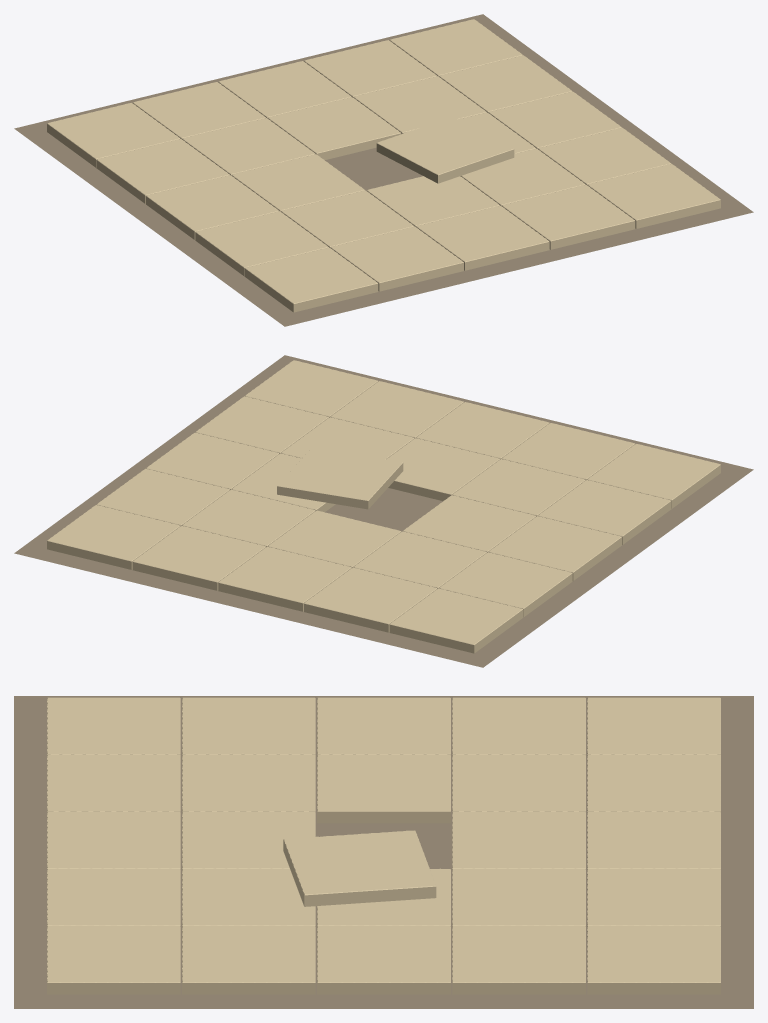
Rendered from terilgan.glb.
3 renders of one model, top to bottom at view 1: azimuth 30°, elevation 25°; view 2: azimuth 150°, elevation 25°; view 3: azimuth 270°, elevation 25°, orthographic. The views are drawn at different scales.
Parts seen in each view (by area): view 1: qum, t.012, t, t.015, t.005, t.010, t.020, t.013, t.001, t.002, t.003, t.004 (+14 smaller); view 2: qum, t.004, t.012, t.019, t.009, t.014, t.024, t.002, t.003, t.001, t, t.006 (+14 smaller); view 3: qum, t.012, t.007, t.020, t.021, t.022, t.023, t.024, t, t.001, t.002, t.003 (+14 smaller).
Part boxes in pixels (x1=…): qum: x1=14, y1=14, x2=753, y2=326; t.012: x1=376, y1=117, x2=514, y2=183; t: x1=244, y1=247, x2=378, y2=312; t.015: x1=501, y1=185, x2=635, y2=249; t.005: x1=330, y1=226, x2=463, y2=291; t.010: x1=416, y1=205, x2=549, y2=270; t.020: x1=587, y1=164, x2=720, y2=228; t.013: x1=267, y1=97, x2=401, y2=159; t.001: x1=195, y1=211, x2=328, y2=276; t.002: x1=146, y1=175, x2=279, y2=239; t.003: x1=96, y1=139, x2=229, y2=203; t.004: x1=47, y1=103, x2=180, y2=167; qum: x1=14, y1=355, x2=753, y2=667; t.004: x1=389, y1=588, x2=523, y2=653; t.012: x1=277, y1=447, x2=403, y2=509; t.019: x1=132, y1=526, x2=266, y2=590; t.009: x1=304, y1=567, x2=437, y2=632; t.014: x1=218, y1=546, x2=351, y2=611; t.024: x1=47, y1=505, x2=180, y2=569; t.002: x1=488, y1=516, x2=621, y2=580; t.003: x1=439, y1=552, x2=572, y2=617; t.001: x1=538, y1=480, x2=671, y2=544; t: x1=587, y1=444, x2=720, y2=508; t.006: x1=452, y1=459, x2=585, y2=516; qum: x1=14, y1=696, x2=753, y2=1008; t.012: x1=283, y1=830, x2=436, y2=906; t.007: x1=317, y1=754, x2=450, y2=823; t.020: x1=47, y1=926, x2=180, y2=994; t.021: x1=182, y1=926, x2=315, y2=994; t.022: x1=317, y1=926, x2=450, y2=994; t.023: x1=452, y1=926, x2=585, y2=994; t.024: x1=587, y1=926, x2=720, y2=994; t: x1=47, y1=697, x2=180, y2=754; t.001: x1=182, y1=697, x2=315, y2=754; t.002: x1=317, y1=697, x2=450, y2=754; t.003: x1=452, y1=697, x2=585, y2=754.
Bounding box in the file's own units: 1.66 × 0.062 × 1.66.
